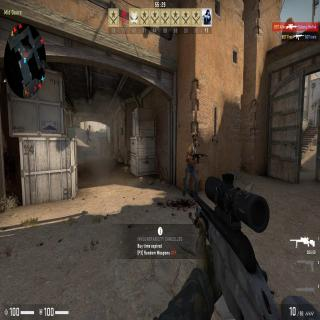T-Body: (182, 136, 202, 198), (86, 128, 90, 142), (89, 124, 91, 131)
T-Head: (194, 137, 198, 148), (87, 128, 88, 130), (89, 124, 90, 125)
